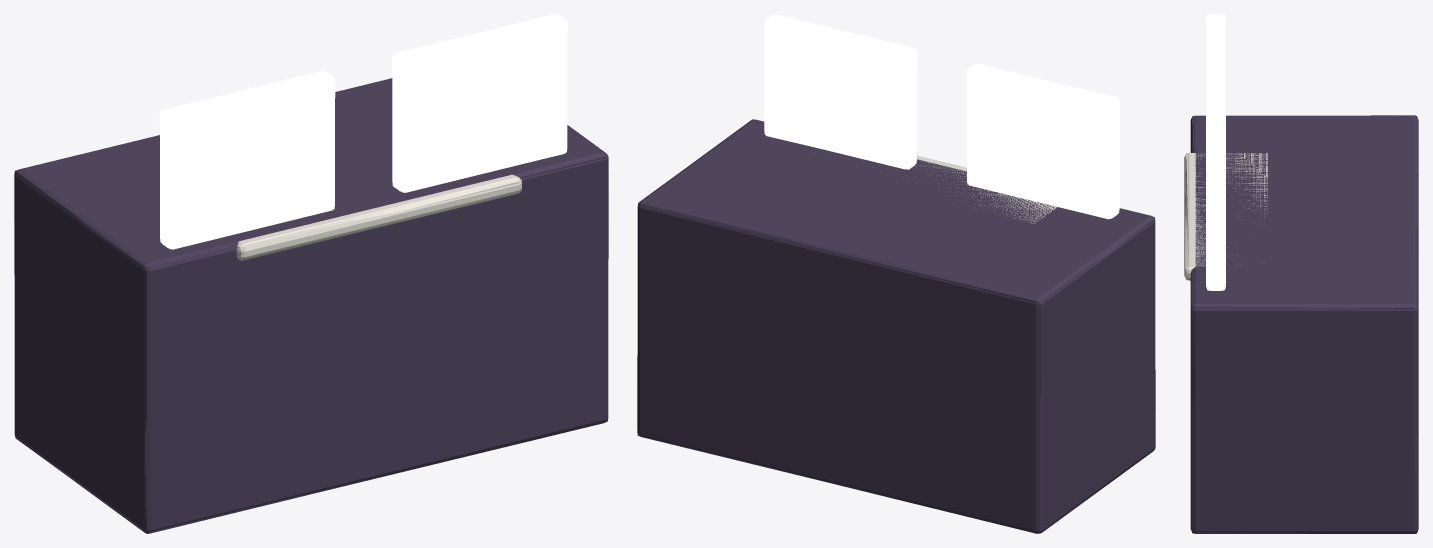
The model's file is SM_Labor_Console.fbx.
3 views of the same model, side by side, from view 1: azimuth 30°, elevation 25°; view 2: azimuth 150°, elevation 25°; view 3: azimuth 270°, elevation 25° (orthographic). The views are drawn at different scales.
Parts seen in each view (by area): view 1: LOD0_SM_Labor_Console, LOD1_SM_Labor_Console, LOD2_SM_Labor_Console; view 2: LOD0_SM_Labor_Console, LOD1_SM_Labor_Console; view 3: LOD0_SM_Labor_Console, LOD1_SM_Labor_Console, LOD2_SM_Labor_Console.
Part boxes in pixels (x1,y1,x2,y2): LOD0_SM_Labor_Console: (14,14,608,533); LOD1_SM_Labor_Console: (14,14,608,533); LOD2_SM_Labor_Console: (14,14,608,533); LOD0_SM_Labor_Console: (637,14,1155,533); LOD1_SM_Labor_Console: (637,14,1155,533); LOD0_SM_Labor_Console: (1184,14,1418,533); LOD1_SM_Labor_Console: (1185,14,1417,533); LOD2_SM_Labor_Console: (1185,14,1417,533).
Size of the model in its own units: 1.8 by 1.5 by 0.925.
